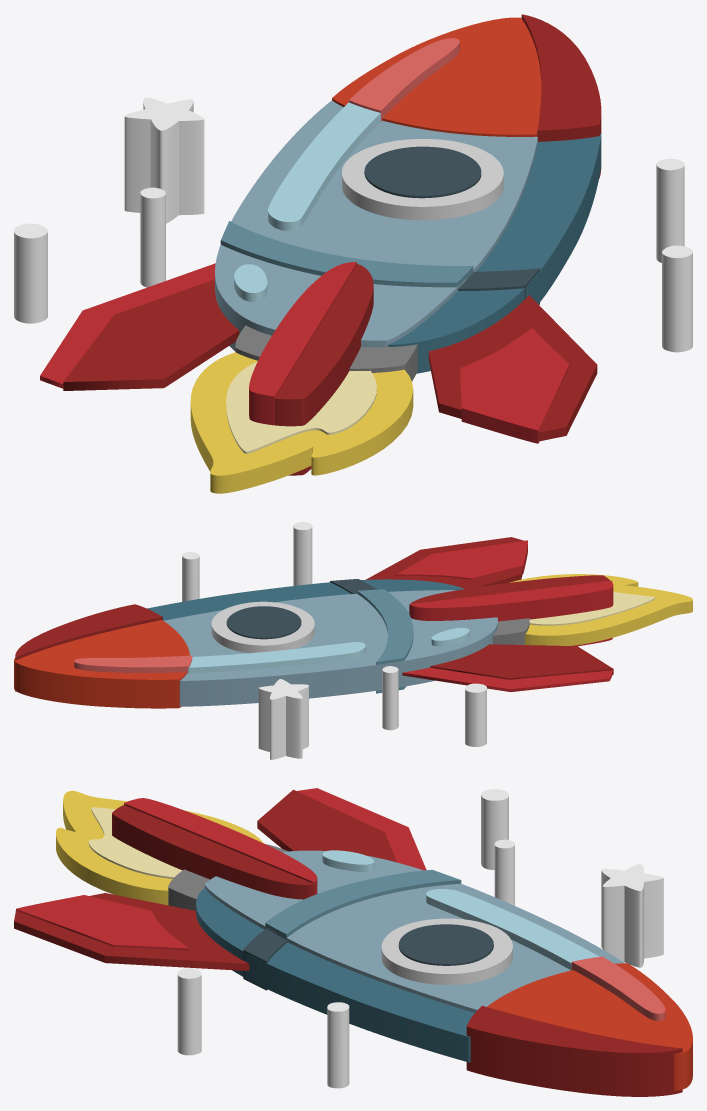
File: emoji_u1f680.glb
3 renders of one model, top to bottom at view 1: azimuth 30°, elevation 25°; view 2: azimuth 150°, elevation 25°; view 3: azimuth 270°, elevation 25°, orthographic. The views are drawn at different scales.
Visible parts, largest first — view 1: emoji_u1f680; view 2: emoji_u1f680; view 3: emoji_u1f680.
Part boxes in pixels (bbox=[...]): emoji_u1f680: bbox=[14, 14, 692, 493]; emoji_u1f680: bbox=[14, 522, 692, 759]; emoji_u1f680: bbox=[14, 788, 692, 1096].
Size of the model in its own units: 0.0335 by 0.0042 by 0.0337.
